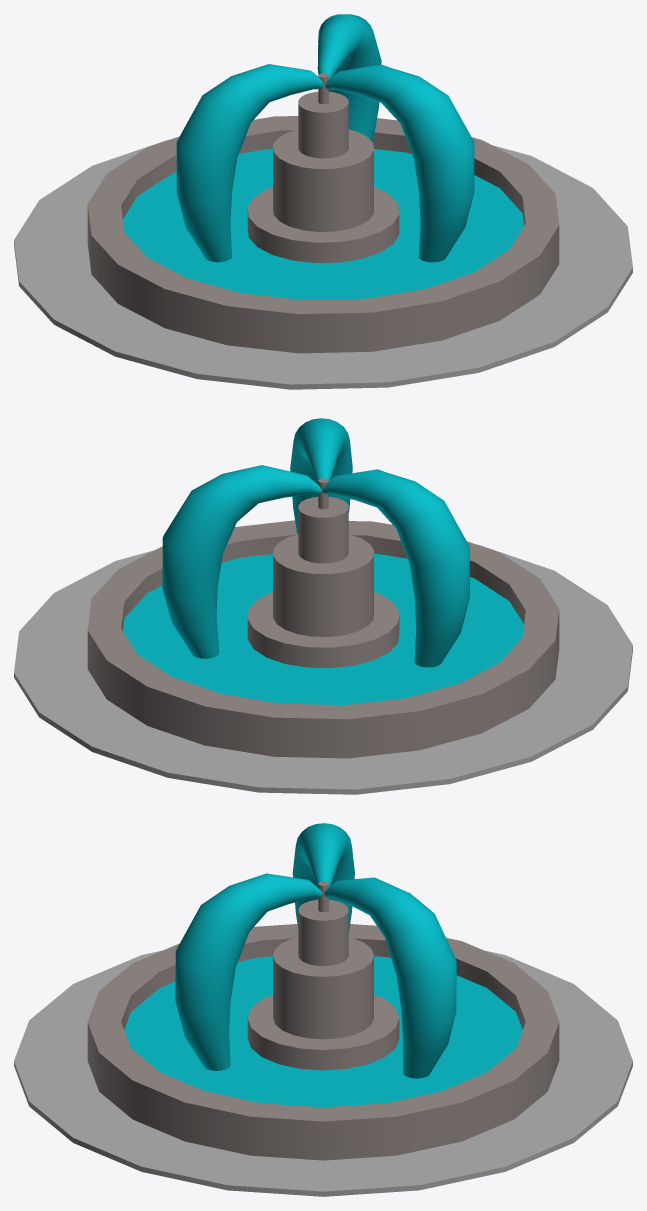
File: fontaine.fbx
3 renders of one model, top to bottom at view 1: azimuth 30°, elevation 25°; view 2: azimuth 150°, elevation 25°; view 3: azimuth 270°, elevation 25°, orthographic.
Visible parts, largest first — view 1: fontaine; view 2: fontaine; view 3: fontaine.
Part boxes in pixels (bbox=[...]): fontaine: bbox=[14, 14, 632, 389]; fontaine: bbox=[14, 418, 632, 794]; fontaine: bbox=[14, 823, 632, 1196].
Bounding box in the file's own units: 1439 × 526 × 1439.
